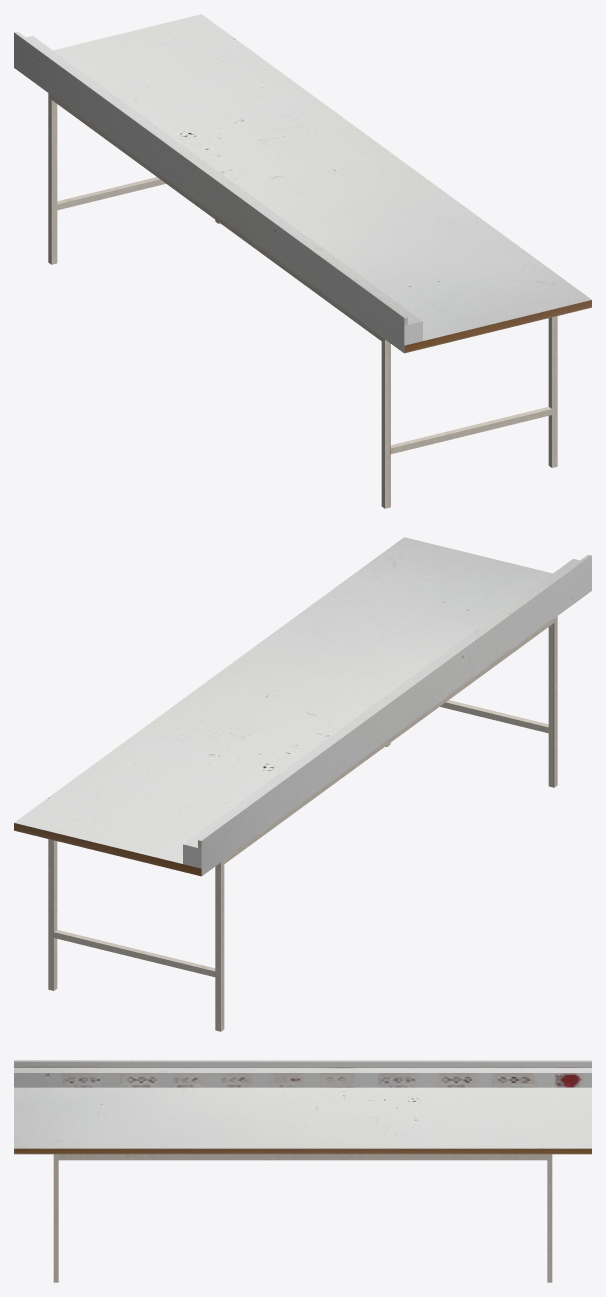
Rendered from Table_290.fbx.
The picture shows the model from 3 angles, top to bottom: view 1: azimuth 30°, elevation 25°; view 2: azimuth 150°, elevation 25°; view 3: azimuth 270°, elevation 25°; orthographic projection. The views are drawn at different scales.
Parts seen in each view (by area): view 1: Table 290; view 2: Table 290; view 3: Table 290.
Boxes of the visible parts, x1=… form: Table 290: x1=14, y1=14, x2=591, y2=508; Table 290: x1=14, y1=537, x2=591, y2=1031; Table 290: x1=14, y1=1060, x2=591, y2=1282.
Size of the model in its own units: 1 by 1.08 by 3.6.
